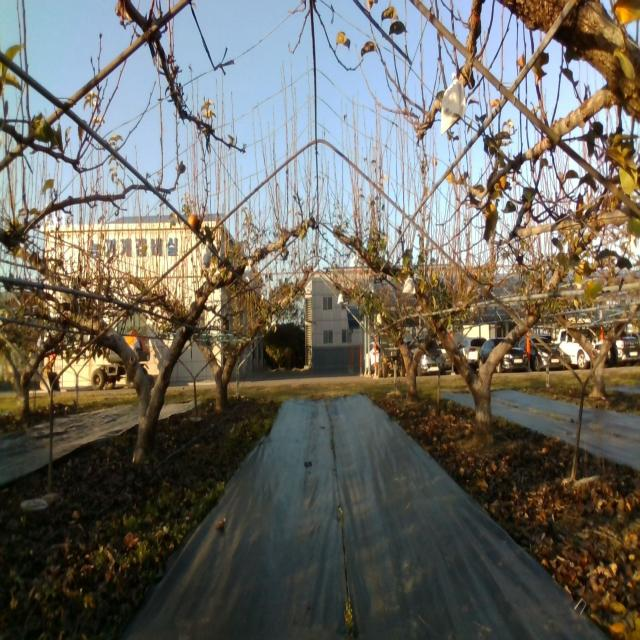pearbags: (440, 72, 467, 138), (202, 240, 212, 268), (402, 275, 416, 295), (243, 264, 253, 285)
